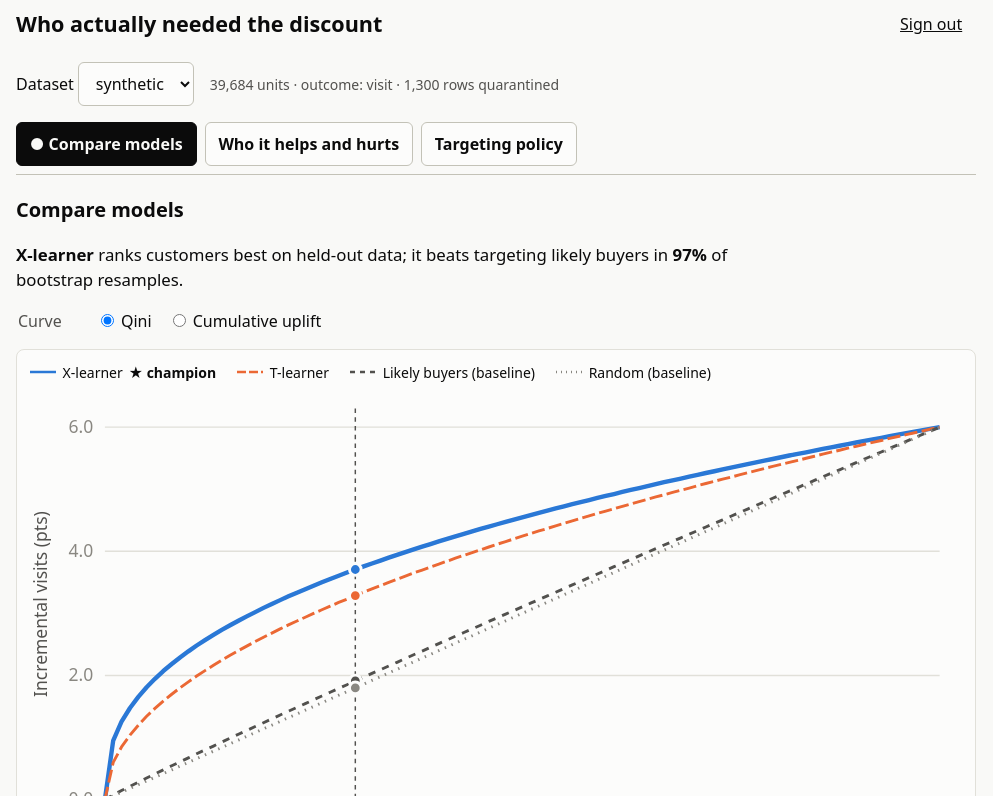
Scenario: building a policy › tells a read-only user what they need instead of failing vaguely
Expected: the text "ranks customers best" is shown, [94,243,402,266]
Click the button "Targeting policy". click: coordinates (499, 144)
box: [421,122,577,166]
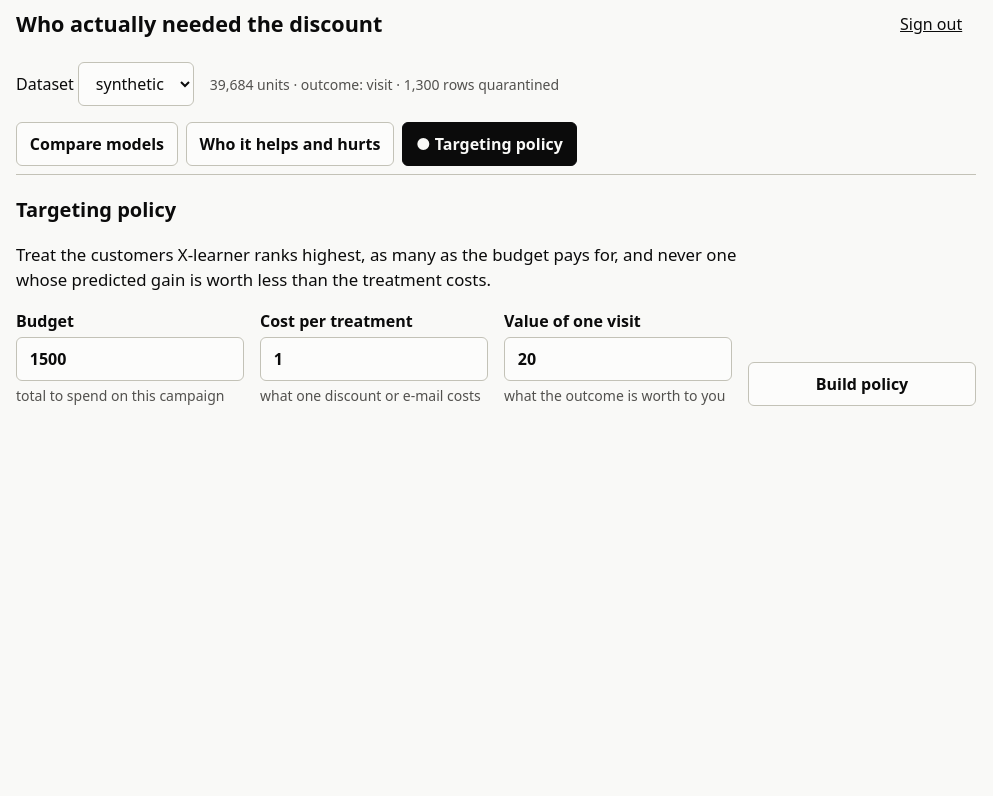
Click the button "Build policy". click: coordinates (862, 384)
box: [748,362,976,406]
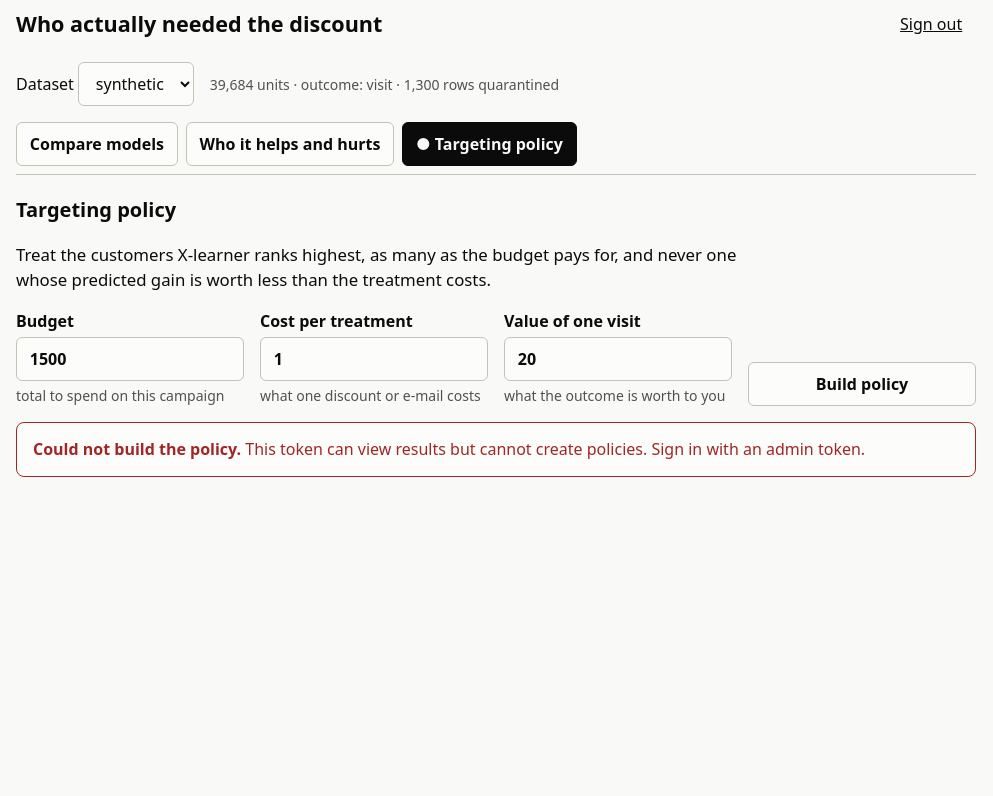
Result: the message shows "Sign in with an admin token" at [245,438,865,460]
